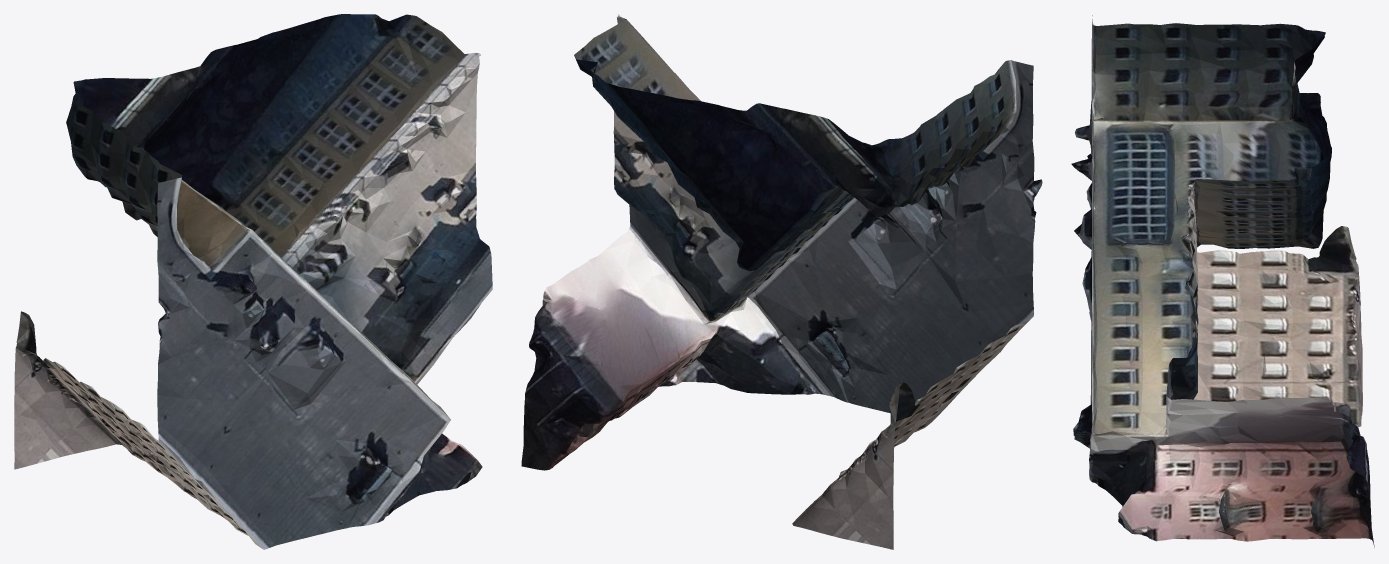
Rendered from Tile_+031_+022_L20_0002210.obj.
3 renders of one model, left to right at view 1: azimuth 30°, elevation 25°; view 2: azimuth 150°, elevation 25°; view 3: azimuth 270°, elevation 25°, orthographic. The views are drawn at different scales.
Size of the model in its own units: 31.5 by 31.5 by 23.72.
Materials: 1 (1 with a texture image).
